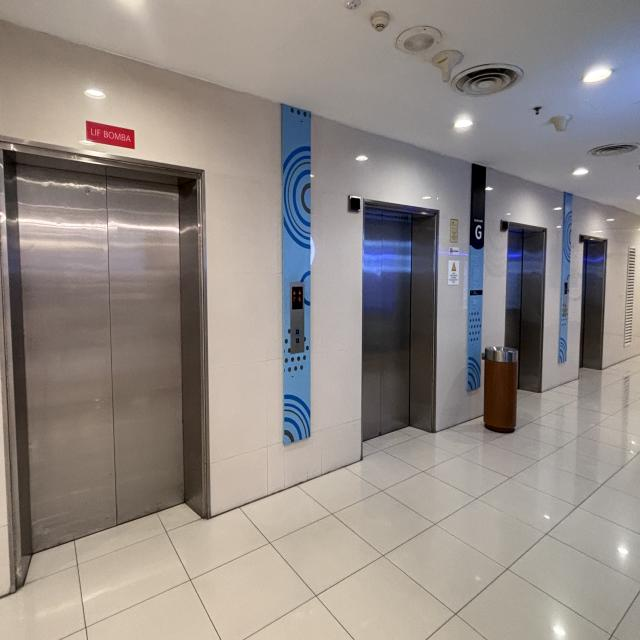elevator: (0, 107, 226, 565), (284, 164, 444, 466)
